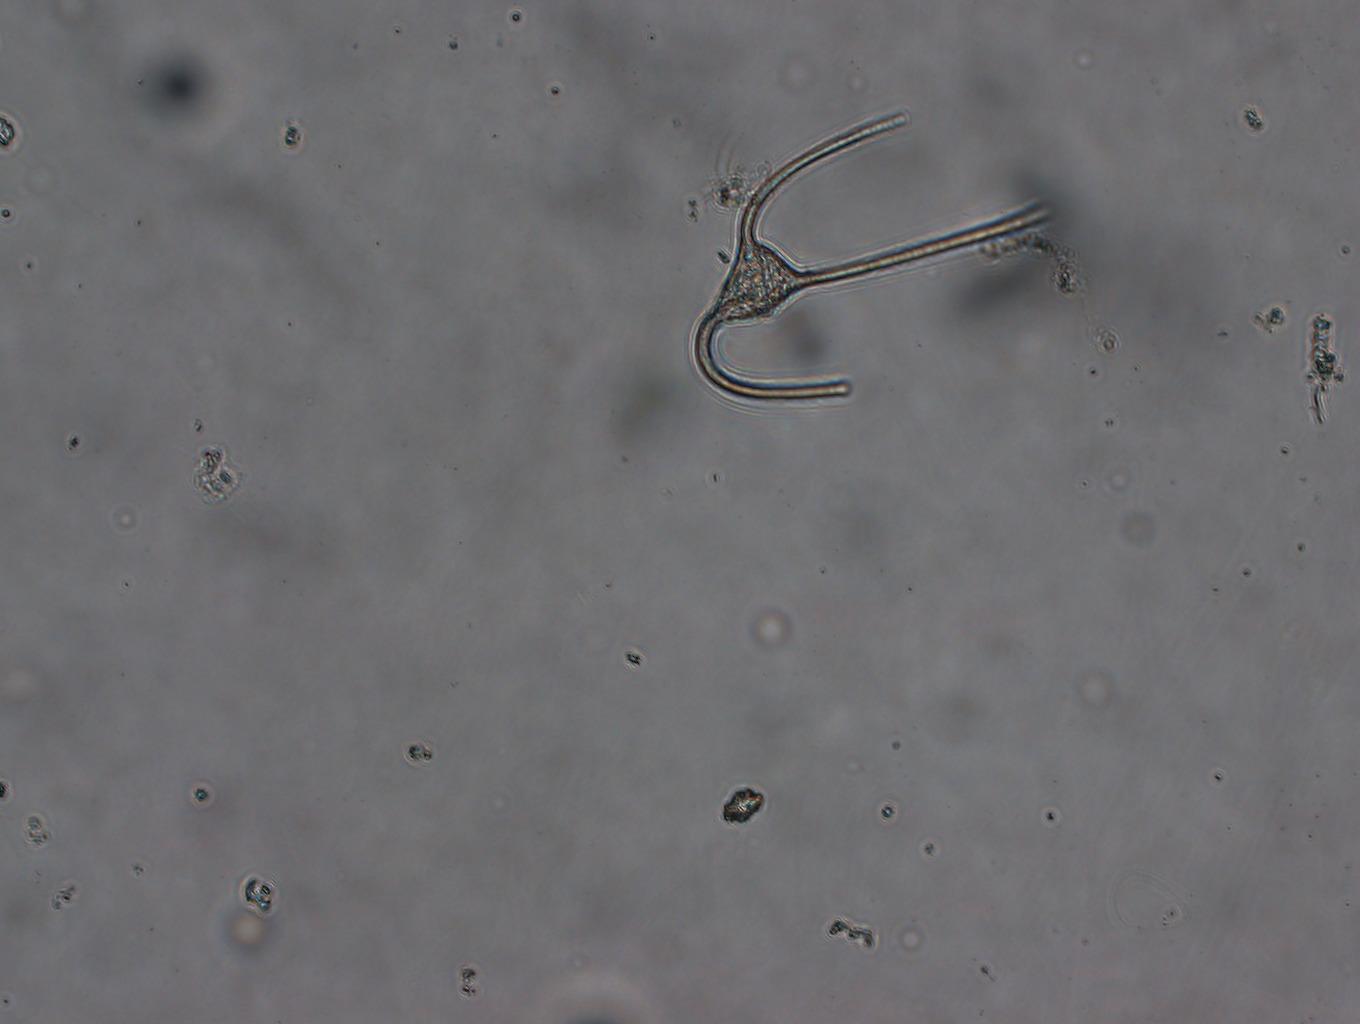ceratium trichoceros: (695, 109, 1046, 401)
